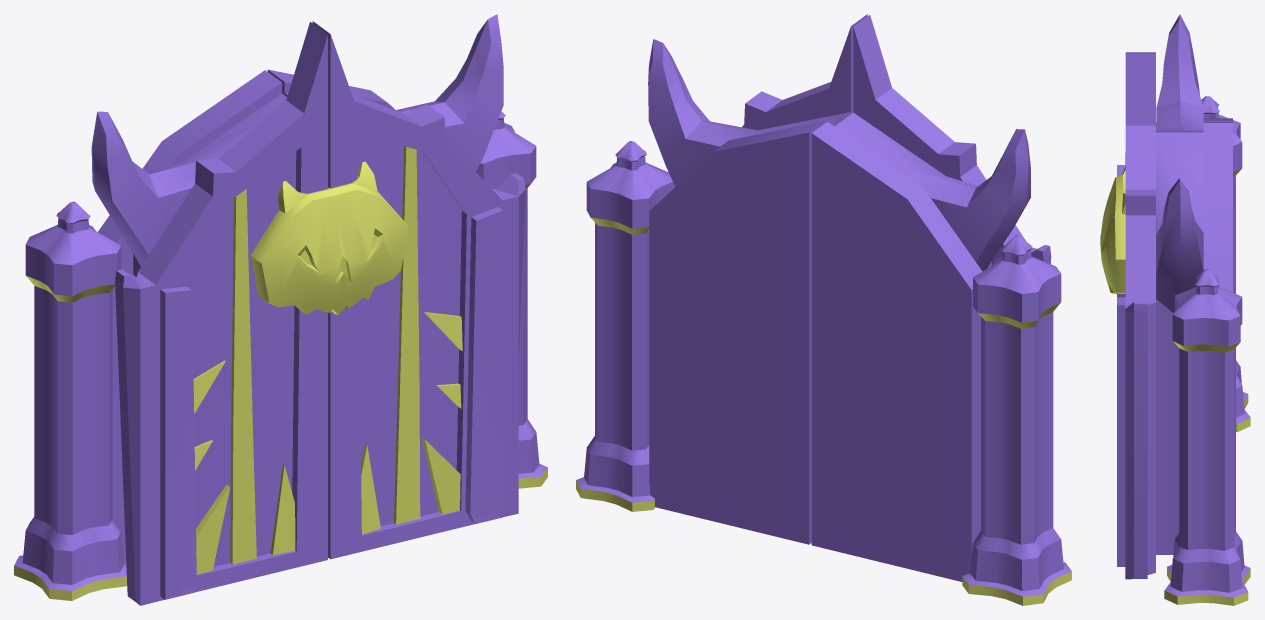
The model's file is sm_gate.fbx.
The picture shows the model from 3 angles, left to right: view 1: azimuth 30°, elevation 25°; view 2: azimuth 150°, elevation 25°; view 3: azimuth 270°, elevation 25°; orthographic projection. The views are drawn at different scales.
Visible parts, largest first — view 1: Plane; view 2: Plane; view 3: Plane.
Boxes of the visible parts, x1,y1,x2,y2 form: Plane: [14, 14, 547, 605]; Plane: [576, 14, 1071, 605]; Plane: [1100, 14, 1250, 605].
Size of the model in its own units: 332 by 332 by 101.
